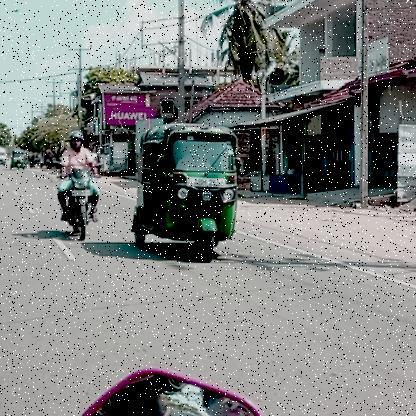motorcycle: (54, 169, 104, 243)
